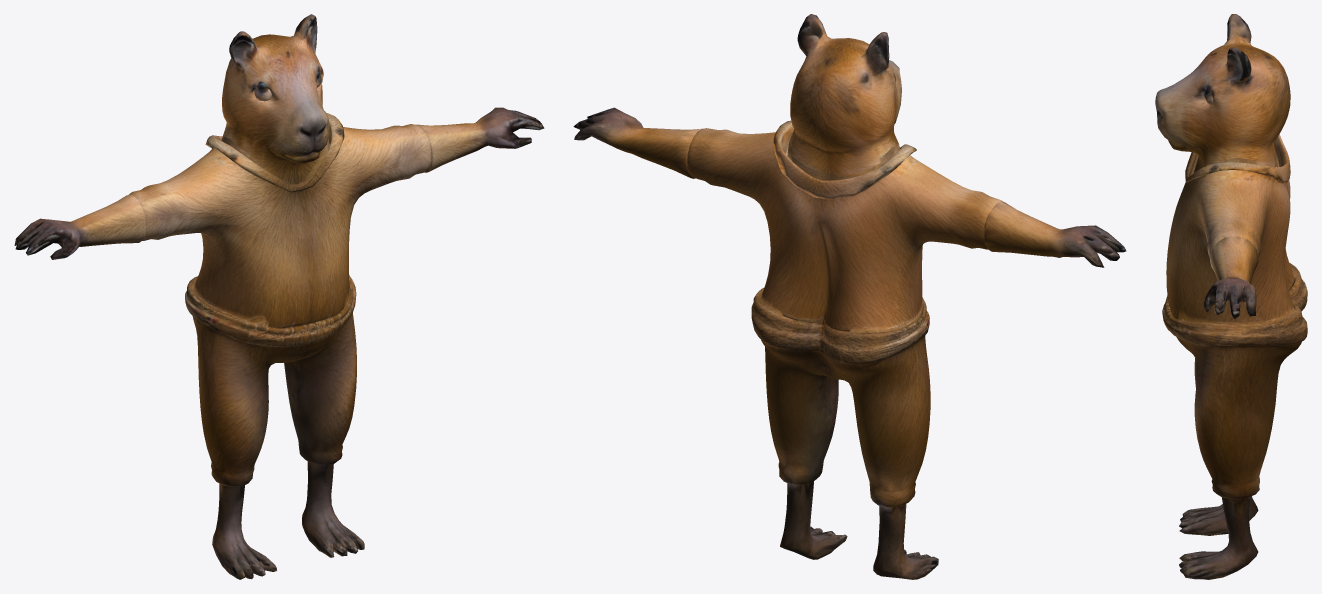
The model's file is Capybara_Gustavo_0405184844_texture.fbx.
3 views of the same model, side by side, from view 1: azimuth 30°, elevation 25°; view 2: azimuth 150°, elevation 25°; view 3: azimuth 270°, elevation 25° (orthographic). The views are drawn at different scales.
Parts seen in each view (by area): view 1: Mesh1; view 2: Mesh1; view 3: Mesh1.
Part boxes in pixels (bbox=[...]): Mesh1: bbox=[14, 14, 544, 579]; Mesh1: bbox=[573, 14, 1126, 579]; Mesh1: bbox=[1155, 14, 1307, 579].
Bounding box in the file's own units: 200 × 192 × 50.9.
1 material, 1 textured.
